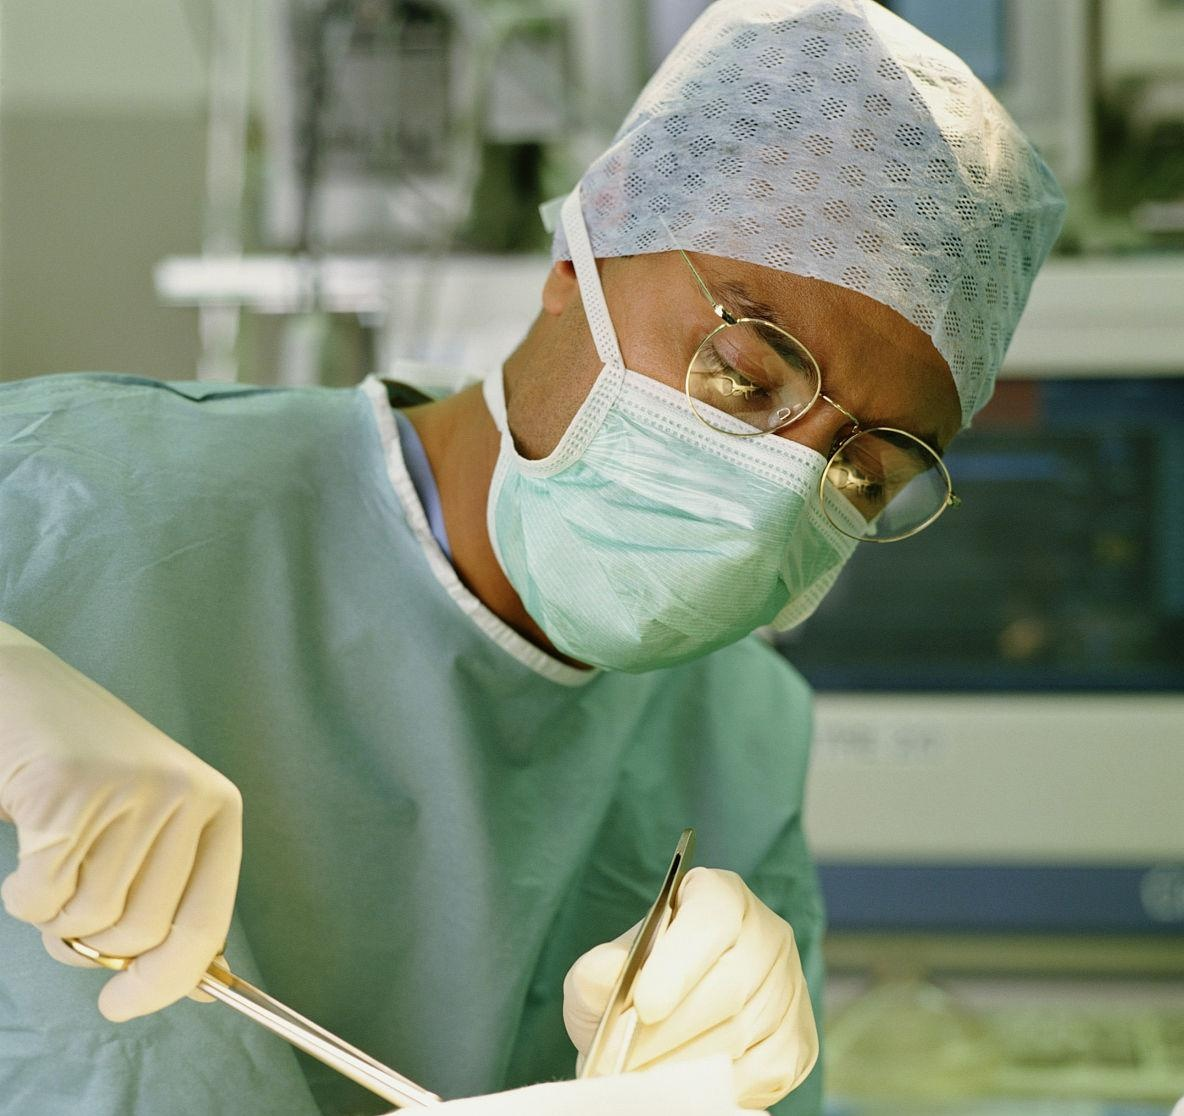Mask: (562, 297, 950, 686)
